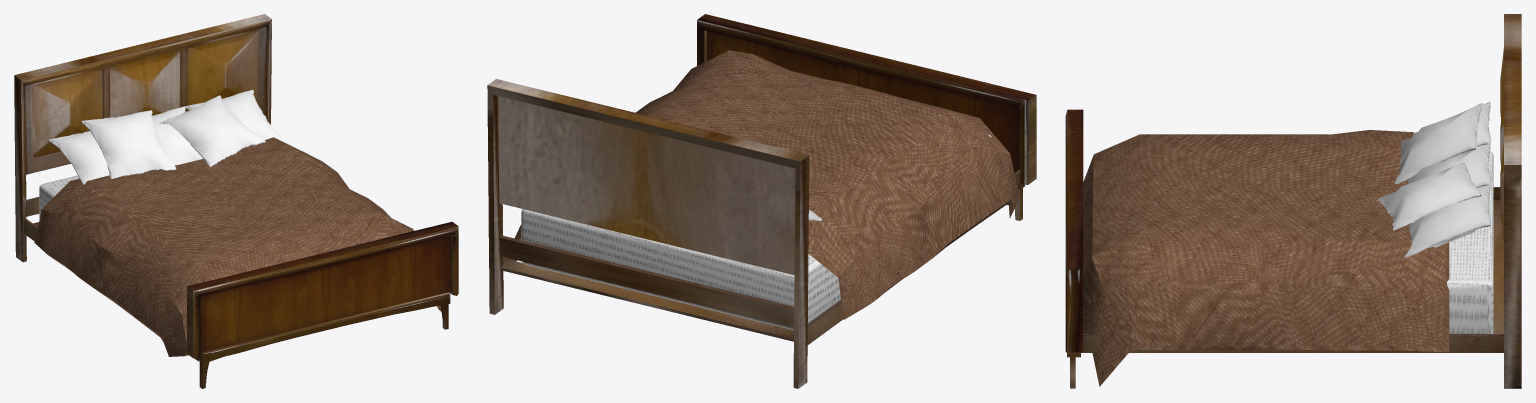
File: Low_Poly_Vintage_Bedframe.glb
The picture shows the model from 3 angles, left to right: view 1: azimuth 30°, elevation 25°; view 2: azimuth 150°, elevation 25°; view 3: azimuth 270°, elevation 25°; orthographic projection. The views are drawn at different scales.
Parts seen in each view (by area): view 1: Blanket_Blanket_0, Frame11_Frame11_0, Frame9_Frame9_0, Frame12_Frame12_0, Frame10_Frame10_0, Pillows1_2_Pillows1_0, Pillows1_3_Pillows1_0, Frame8_Frame8_0, Pillows1_2_2_Pillows1_0, Pillows1_1_Pillows1_0, Pillows1_Pillows1_0, Mattress_Mattress_0; view 2: Blanket_Blanket_0, Frame11_Frame11_0, Frame12_Frame12_0, Mattress_Mattress_0, Frame10_Frame10_0, Frame9_Frame9_0, Frame3_Frame3_0, Frame5_Frame5_0; view 3: Blanket_Blanket_0, Frame12_Frame12_0, Mattress_Mattress_0, Frame10_Frame10_0, Pillows1_3_Pillows1_0, Pillows1_2_Pillows1_0, Pillows1_1_Pillows1_0, Frame4_Frame4_0, Pillows1_Pillows1_0, Frame3_Frame3_0, Frame11_Frame11_0, Pillows1_2_2_Pillows1_0.
Boxes of the visible parts, x1,y1,x2,y2 form: Blanket_Blanket_0: (34,137,441,356); Frame11_Frame11_0: (25,27,266,216); Frame9_Frame9_0: (200,235,451,352); Frame12_Frame12_0: (14,14,271,262); Frame10_Frame10_0: (187,221,458,358); Pillows1_2_Pillows1_0: (81,110,176,178); Pillows1_3_Pillows1_0: (160,95,265,167); Frame8_Frame8_0: (198,292,450,363); Pillows1_2_2_Pillows1_0: (48,131,109,185); Pillows1_1_Pillows1_0: (185,90,284,142); Pillows1_Pillows1_0: (152,106,202,165); Mattress_Mattress_0: (39,175,79,220); Blanket_Blanket_0: (514,50,1020,319); Frame11_Frame11_0: (498,96,795,327); Frame12_Frame12_0: (487,79,809,388); Mattress_Mattress_0: (521,134,991,329); Frame10_Frame10_0: (697,14,1036,184); Frame9_Frame9_0: (707,31,1019,172); Frame3_Frame3_0: (500,259,793,341); Frame5_Frame5_0: (807,169,1024,344); Blanket_Blanket_0: (1083,130,1449,386); Frame12_Frame12_0: (1504,14,1521,388); Mattress_Mattress_0: (1447,151,1493,333); Frame10_Frame10_0: (1065,109,1083,352); Pillows1_3_Pillows1_0: (1378,162,1481,230); Pillows1_2_Pillows1_0: (1394,102,1483,183); Pillows1_1_Pillows1_0: (1405,184,1490,257); Frame4_Frame4_0: (1081,334,1503,352); Pillows1_Pillows1_0: (1408,143,1490,187); Frame3_Frame3_0: (1493,200,1503,333); Frame11_Frame11_0: (1500,48,1503,240); Pillows1_2_2_Pillows1_0: (1413,101,1490,152).
Size of the model in its own units: 8.96 by 5.7 by 10.46.
Materials: 15 (15 with a texture image).
